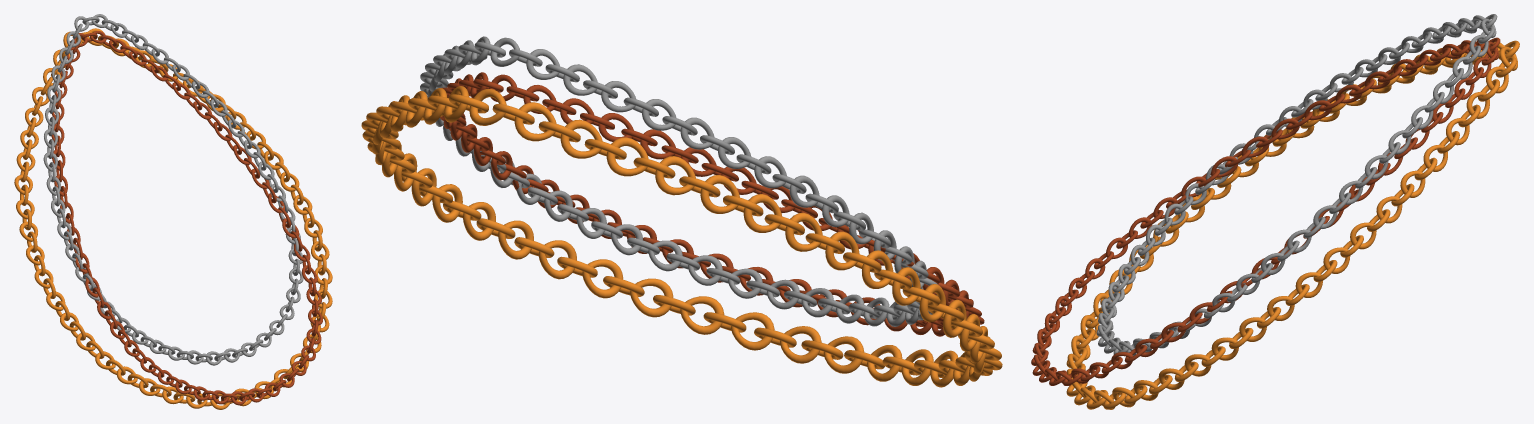
File: Chain_04.fbx
The picture shows the model from 3 angles, left to right: view 1: azimuth 30°, elevation 25°; view 2: azimuth 150°, elevation 25°; view 3: azimuth 270°, elevation 25°; orthographic projection. The views are drawn at different scales.
Visible parts, largest first — view 1: Chain_04; view 2: Chain_04; view 3: Chain_04.
Boxes of the visible parts, x1=… form: Chain_04: x1=14, y1=14, x2=332, y2=409; Chain_04: x1=361, y1=36, x2=1002, y2=387; Chain_04: x1=1031, y1=14, x2=1519, y2=409.
Bounding box in the file's own units: 28.24 × 26.44 × 32.12.
